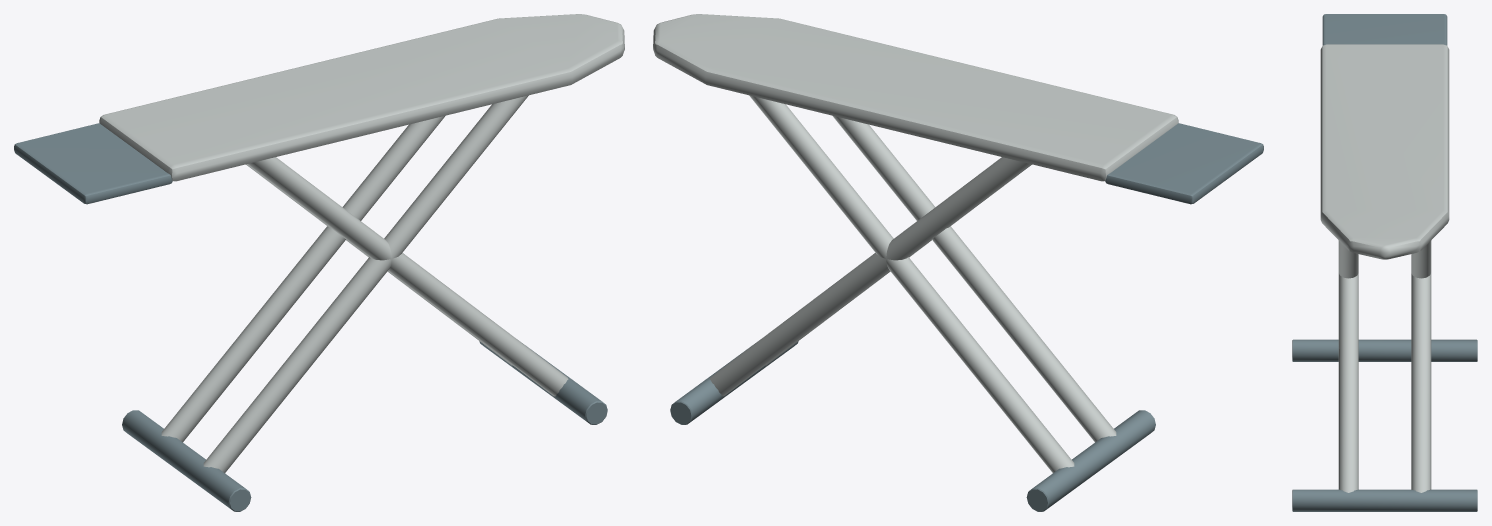
Rendered from ironing-board.glb.
3 views of the same model, side by side, from view 1: azimuth 30°, elevation 25°; view 2: azimuth 150°, elevation 25°; view 3: azimuth 270°, elevation 25° (orthographic). The views are drawn at different scales.
Visible parts, largest first — view 1: padded_ironing_surface, folding_leg.001, folding_leg, cross_leg.001, iron_rest, rubber_foot_bar, rubber_foot_bar.001; view 2: padded_ironing_surface, folding_leg, folding_leg.001, cross_leg, iron_rest, rubber_foot_bar, rubber_foot_bar.001; view 3: padded_ironing_surface, cross_leg, cross_leg.001, rubber_foot_bar.001, iron_rest, rubber_foot_bar, folding_leg, folding_leg.001.
Part boxes in pixels (x1,y1,x2,y2): padded_ironing_surface: (99,14,624,181); folding_leg.001: (203,95,528,472); folding_leg: (161,115,445,442); cross_leg.001: (247,157,568,396); iron_rest: (14,123,172,204); rubber_foot_bar: (122,410,251,511); rubber_foot_bar.001: (479,341,607,424); padded_ironing_surface: (653,14,1178,181); folding_leg: (749,95,1074,472); folding_leg.001: (832,115,1116,442); cross_leg: (709,157,1030,396); iron_rest: (1105,123,1263,204); rubber_foot_bar: (1026,410,1155,511); rubber_foot_bar.001: (670,341,798,424); padded_ironing_surface: (1320,44,1449,259); cross_leg: (1411,273,1431,492); cross_leg.001: (1338,273,1358,492); rubber_foot_bar.001: (1292,489,1477,511); iron_rest: (1322,14,1447,45); rubber_foot_bar: (1292,339,1477,361); folding_leg: (1411,241,1431,278); folding_leg.001: (1338,241,1358,278).
Bounding box in the file's own units: 1.42 × 0.813 × 0.46.
